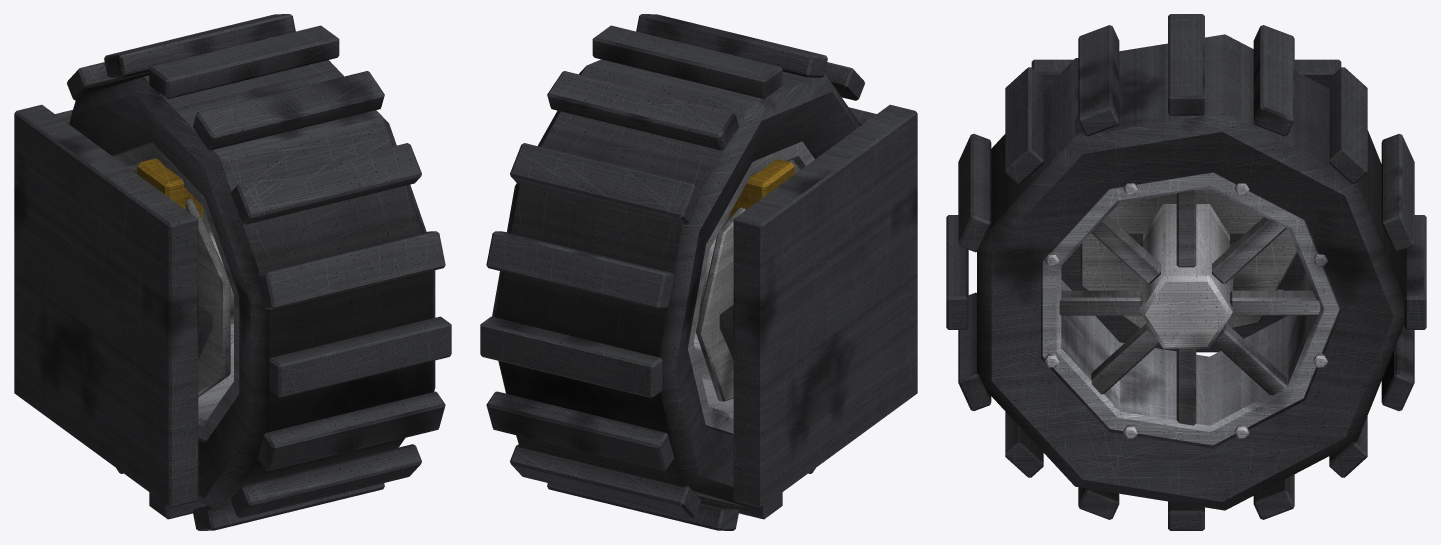
File: R4M_WheelM_Side_Offroad_LOD1.glb
The picture shows the model from 3 angles, left to right: view 1: azimuth 30°, elevation 25°; view 2: azimuth 150°, elevation 25°; view 3: azimuth 270°, elevation 25°; orthographic projection.
Parts seen in each view (by area): view 1: R4M_WheelM_Side_Offroad_LOD1; view 2: R4M_WheelM_Side_Offroad_LOD1; view 3: R4M_WheelM_Side_Offroad_LOD1.
Part boxes in pixels (x1,y1,x2,y2): R4M_WheelM_Side_Offroad_LOD1: (14,14,451,530); R4M_WheelM_Side_Offroad_LOD1: (480,14,917,530); R4M_WheelM_Side_Offroad_LOD1: (946,14,1426,530).
Size of the model in its own units: 0.452 by 0.776 by 0.776.
4 materials, 4 textured.
